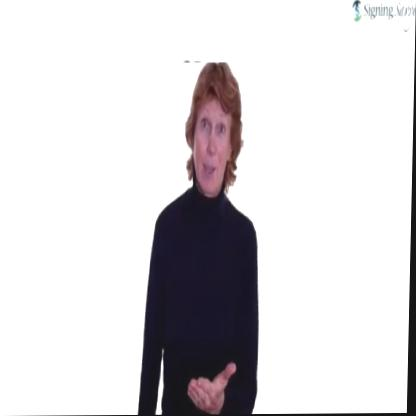ThankYou: (137, 62, 267, 415)
